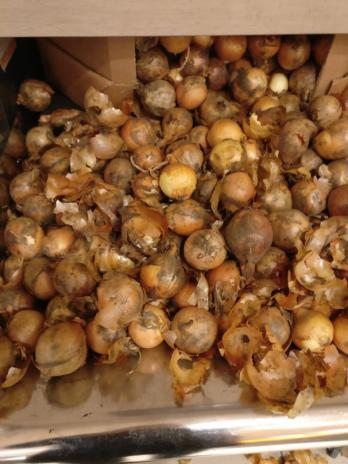Onion: (2, 84, 348, 390), (139, 36, 330, 88)
